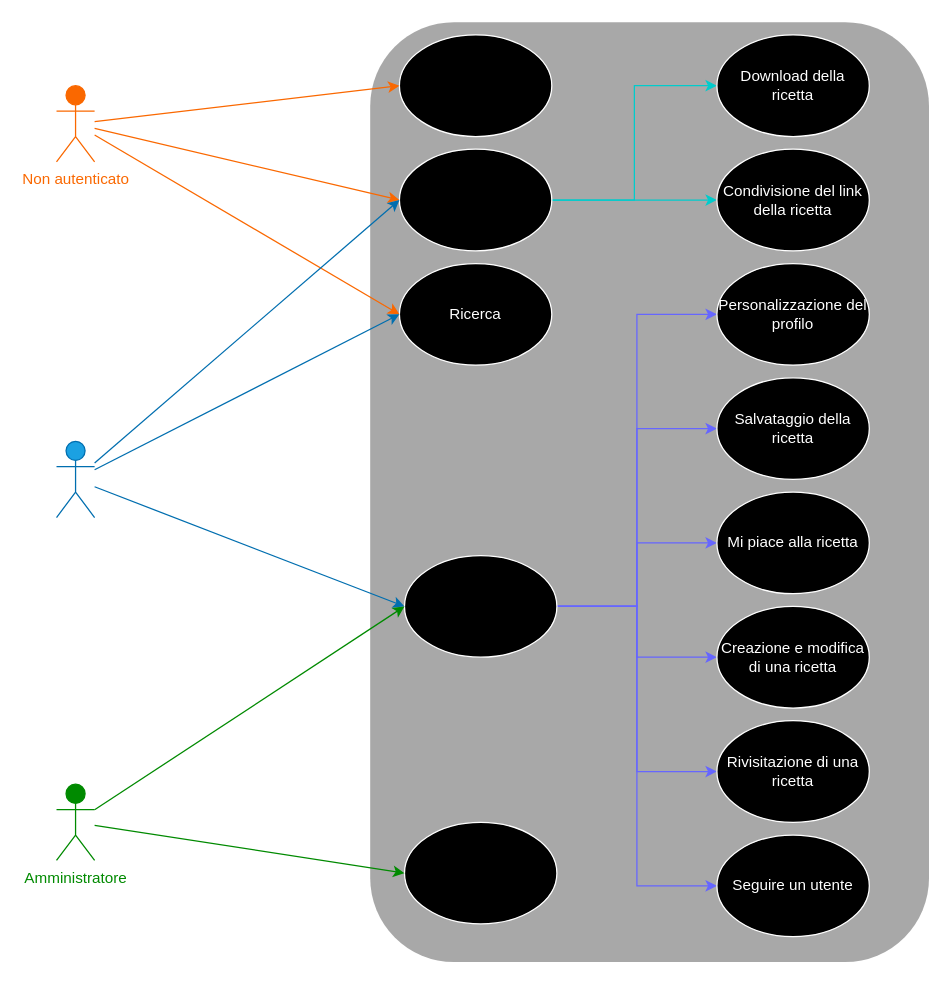
Image size: 950x983. Some labels were removed from this diagram. Each missing label, with the centre of its shape:
Autenticato: pixel 75 479
Gestione del database: pixel 480 872
Login: pixel 480 605
Registrazione: pixel 475 85
Visualizzazione delle ricette: pixel 475 199
